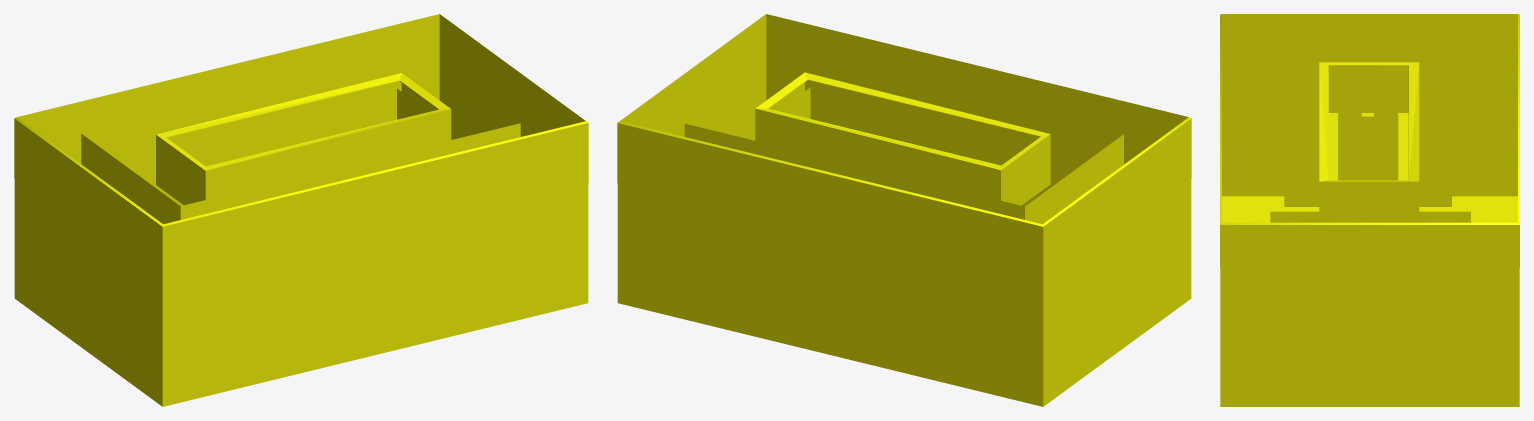
3 views of the same model, side by side, from view 1: azimuth 30°, elevation 25°; view 2: azimuth 150°, elevation 25°; view 3: azimuth 270°, elevation 25° (orthographic).
Parts seen in each view (by area): view 1: sponza_379; view 2: sponza_379; view 3: sponza_379.
Boxes of the visible parts, x1,y1,x2,y2 form: sponza_379: (14,14,588,406); sponza_379: (617,14,1191,406); sponza_379: (1220,14,1519,406).
Size of the model in its own units: 1.08 by 0.4421 by 0.6536.
1 material, 1 textured.
